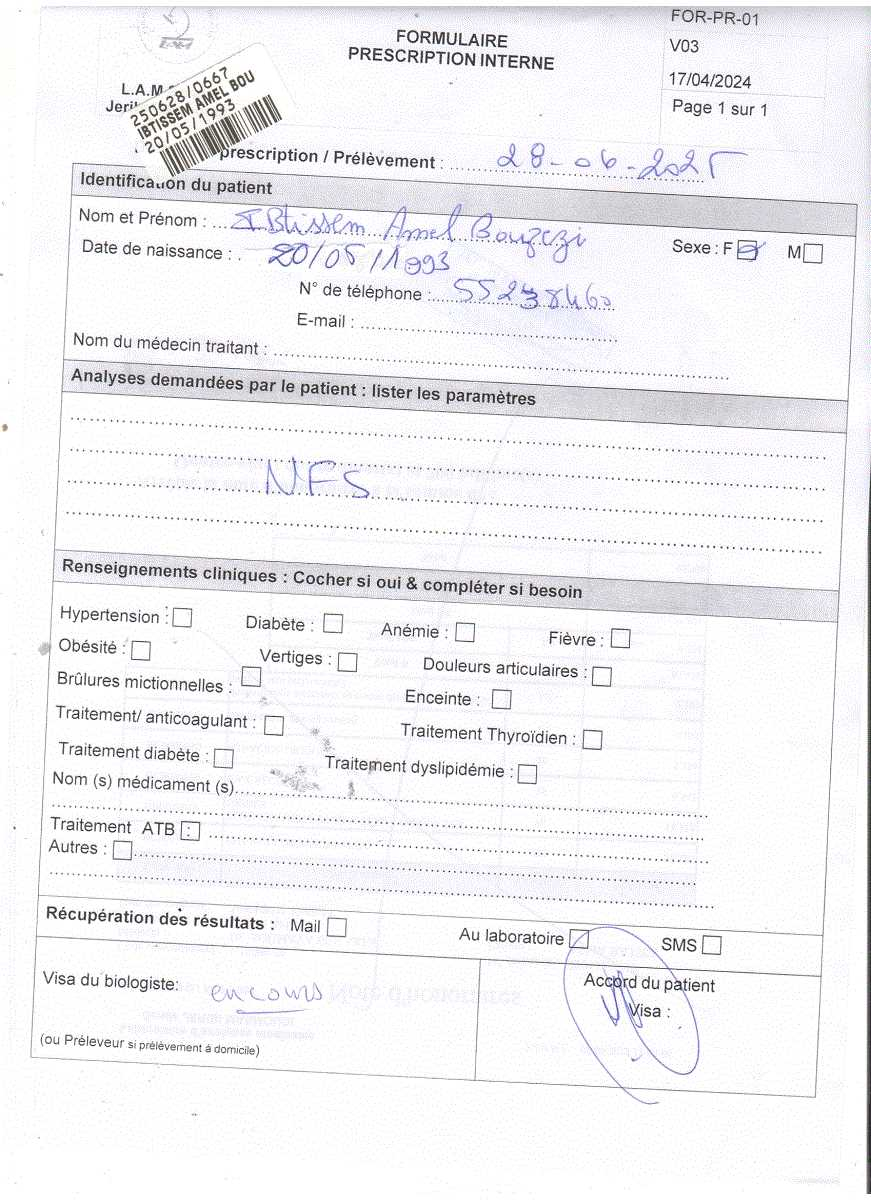zone_analyses: (71, 368, 568, 521)
zone_date: (103, 117, 744, 171)
zone_patient: (75, 164, 848, 327)
